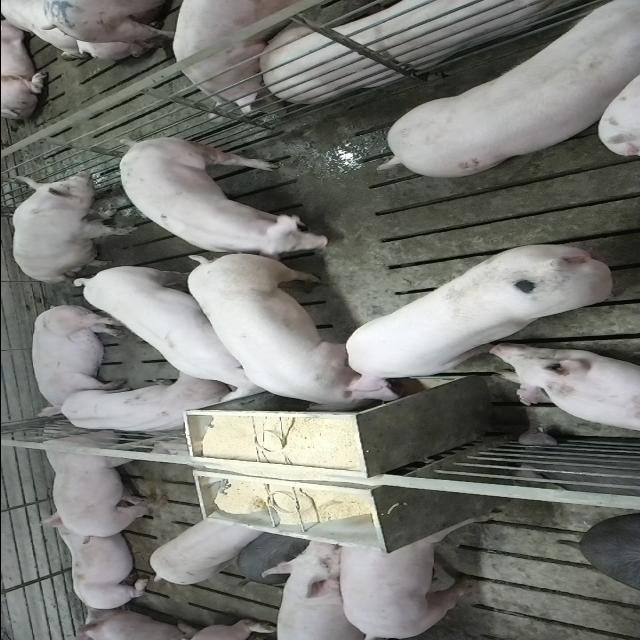Feeding: (338, 242, 619, 402), (177, 258, 380, 420)
Lateral_lying: (253, 0, 605, 101), (28, 302, 128, 418)
Sitting: (8, 170, 136, 284)
Standing: (373, 4, 634, 182), (70, 261, 286, 398), (112, 134, 326, 255), (337, 516, 489, 638), (37, 421, 171, 540), (169, 0, 303, 118), (264, 534, 376, 636), (149, 514, 262, 588)
Sternal_lying: (488, 346, 640, 434), (35, 518, 153, 612), (54, 376, 230, 436)
